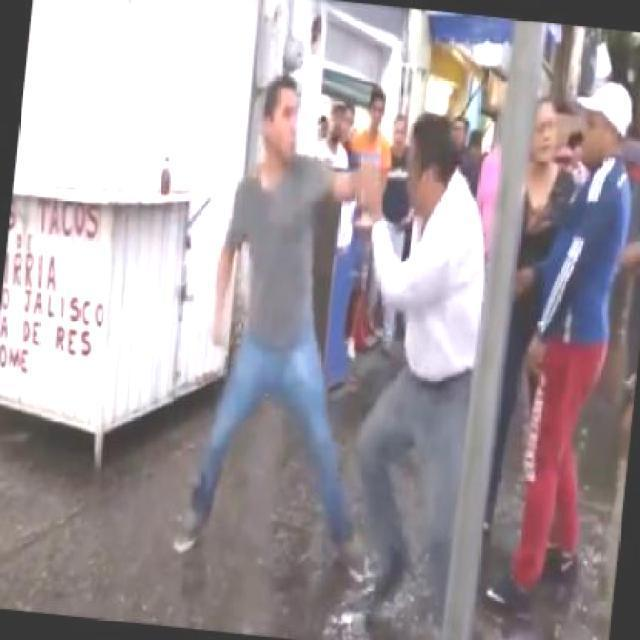fight: (173, 67, 499, 604)
non-fight: (503, 76, 639, 610)
